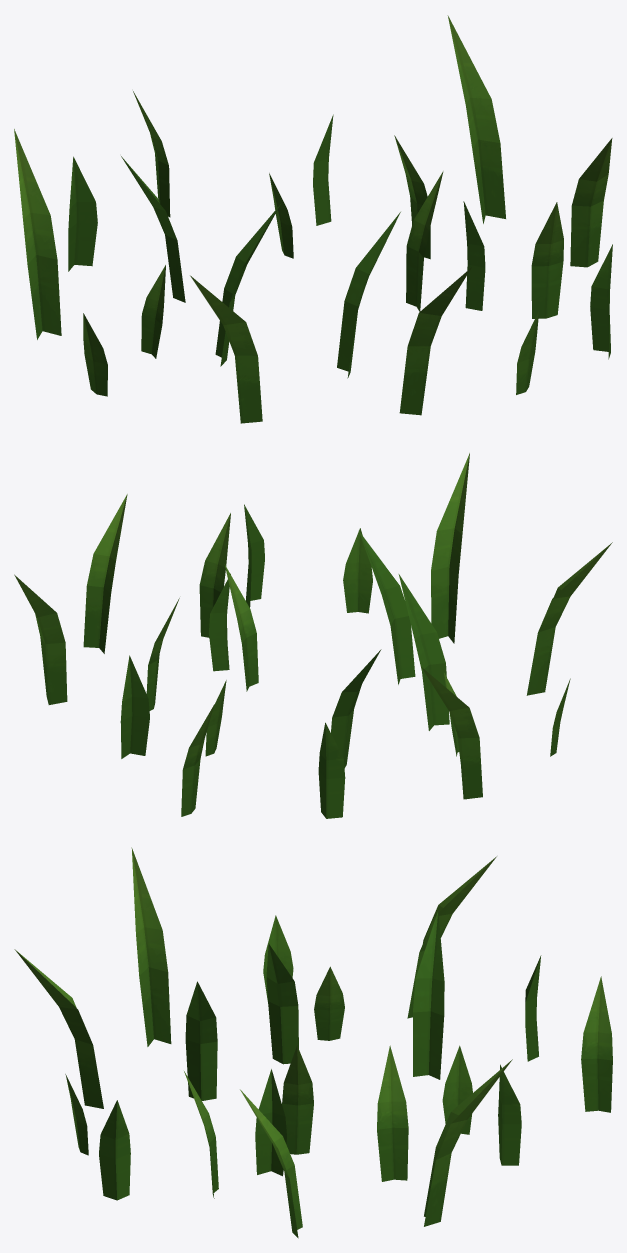
The model's file is GrassSmall2.fbx.
The picture shows the model from 3 angles, top to bottom: view 1: azimuth 30°, elevation 25°; view 2: azimuth 150°, elevation 25°; view 3: azimuth 270°, elevation 25°; orthographic projection. The views are drawn at different scales.
Visible parts, largest first — view 1: GrassSmall2; view 2: GrassSmall2; view 3: GrassSmall2.
Boxes of the visible parts, x1,y1,x2,y2 form: GrassSmall2: [14, 15, 612, 423]; GrassSmall2: [14, 453, 612, 818]; GrassSmall2: [14, 847, 612, 1238].
Size of the model in its own units: 0.6493 by 0.2032 by 0.6766.
Materials: 1 (1 with a texture image).
